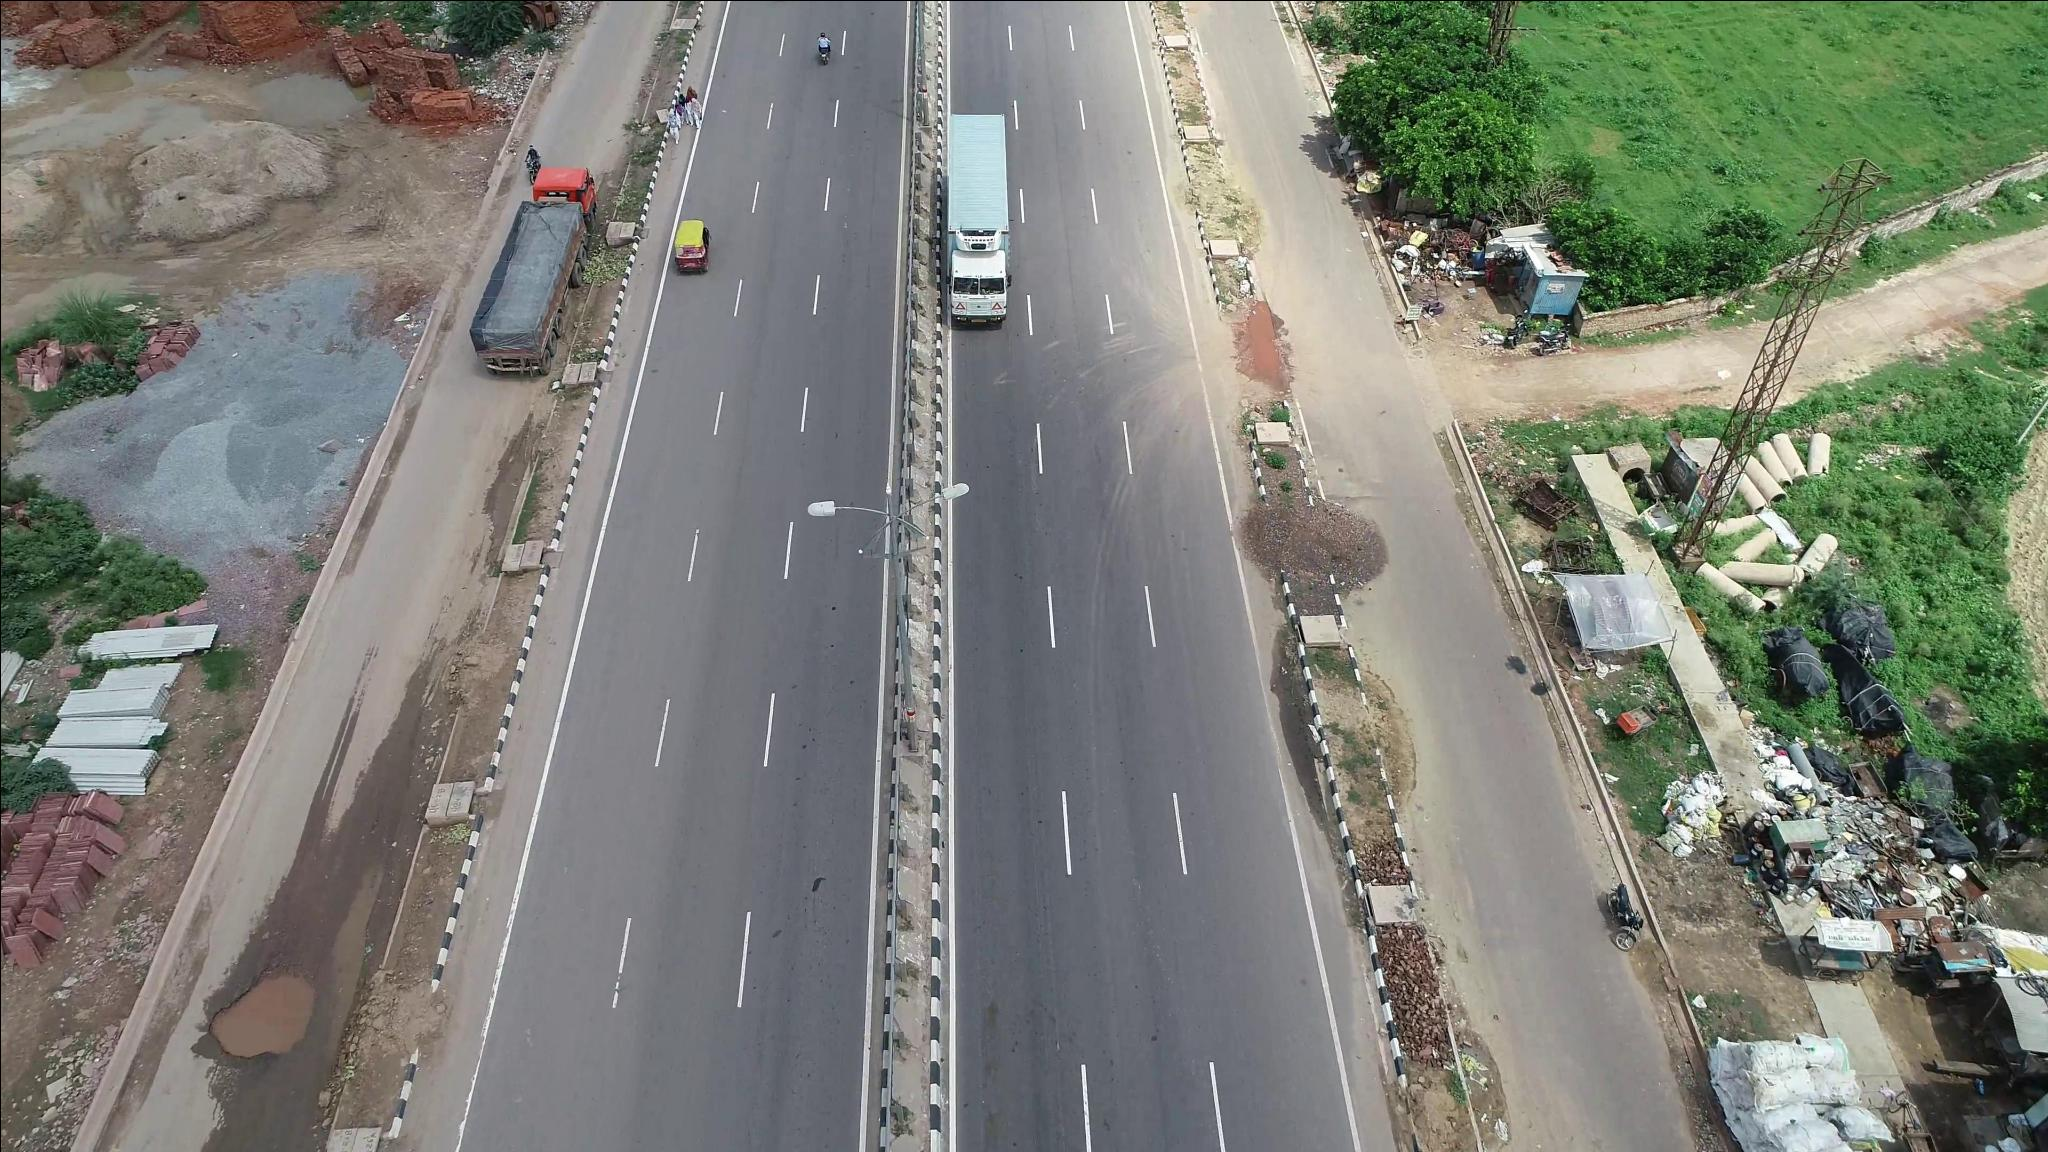Potholes: (179, 945, 332, 1070)
